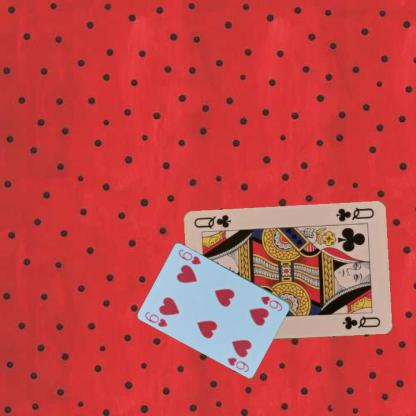6h: (142, 309, 168, 328), (258, 294, 284, 312)
Qc: (333, 205, 375, 223)
